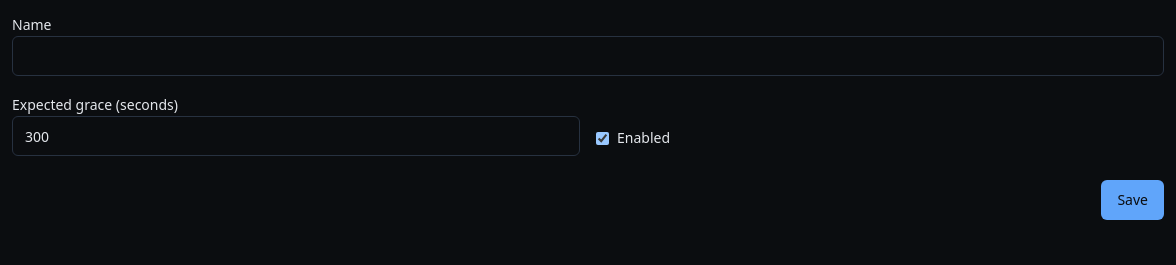
CronForm › shows validation error when submitting with empty name
The width and height of the screenshot is (1176, 265).
Clear the field labelled "Name" at x=588, y=56, box [12, 36, 1164, 76]
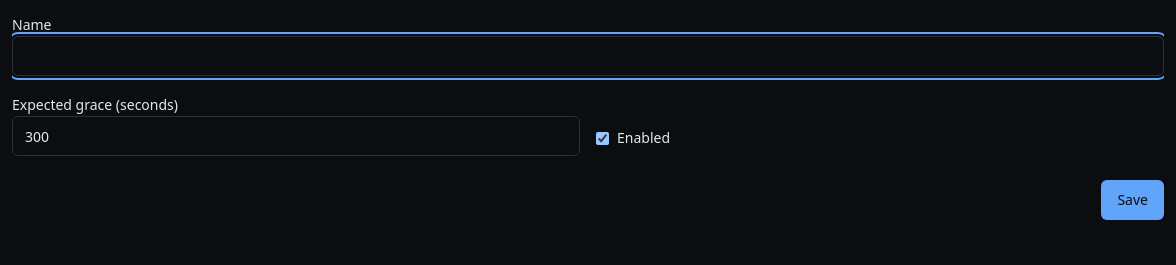
Click the button "Save" at x=1133, y=200, box [1101, 180, 1164, 220]
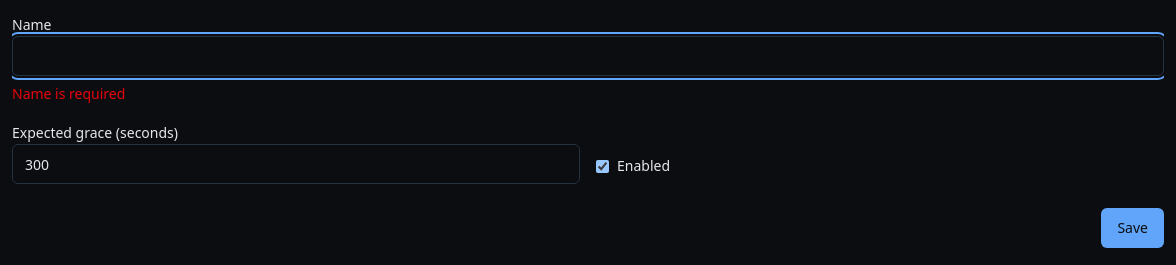
Result: the text "Name is required" is shown at [12, 84, 125, 103]
